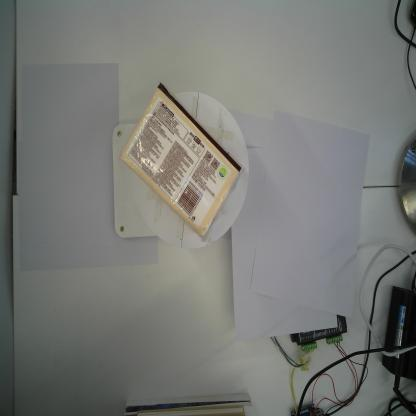Tissue: (118, 80, 243, 245)
